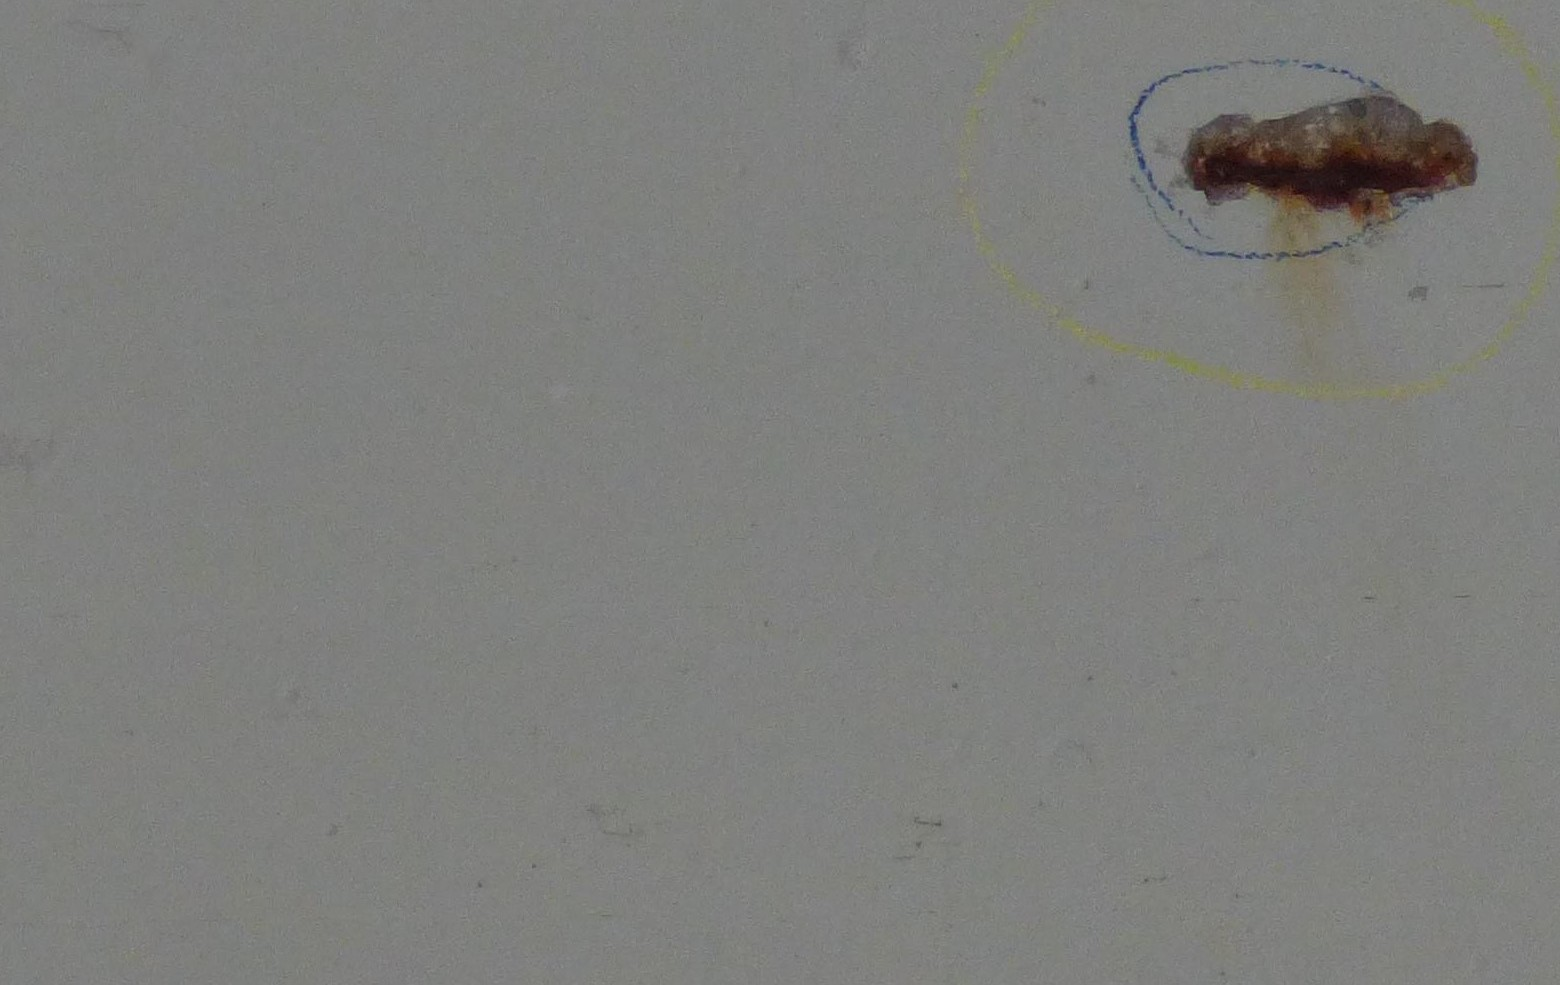Exposed reinforcement: (1203, 152, 1426, 196)
Spalling: (1179, 95, 1479, 225)
